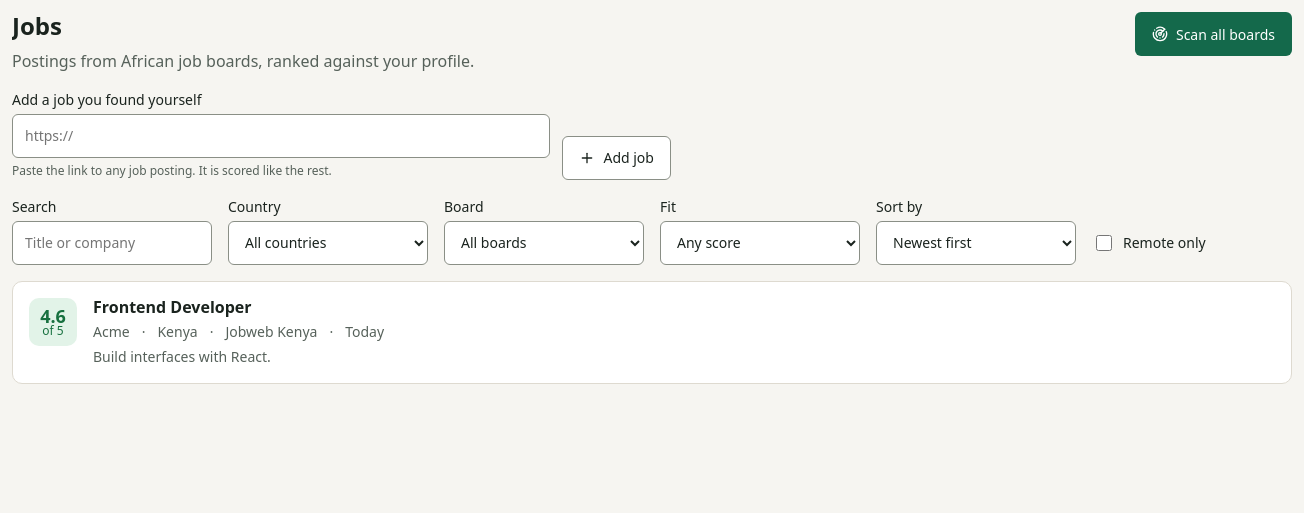
Scenario: JobsPage › offers to clear the filters when they match nothing
Click the checkbox labelled "Remote only": [1104, 243] box [1096,235,1112,251]
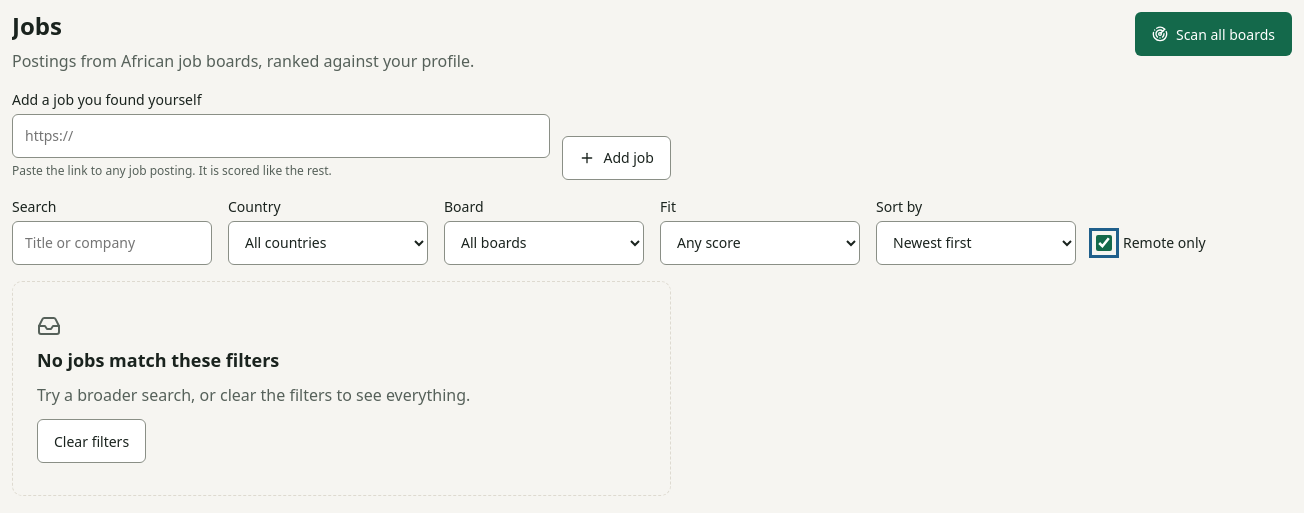
Expected: the heading "No jobs match these filters" is shown, [37,350,279,371]
Click the button "Clear filters": [92, 441] box [37,419,146,463]
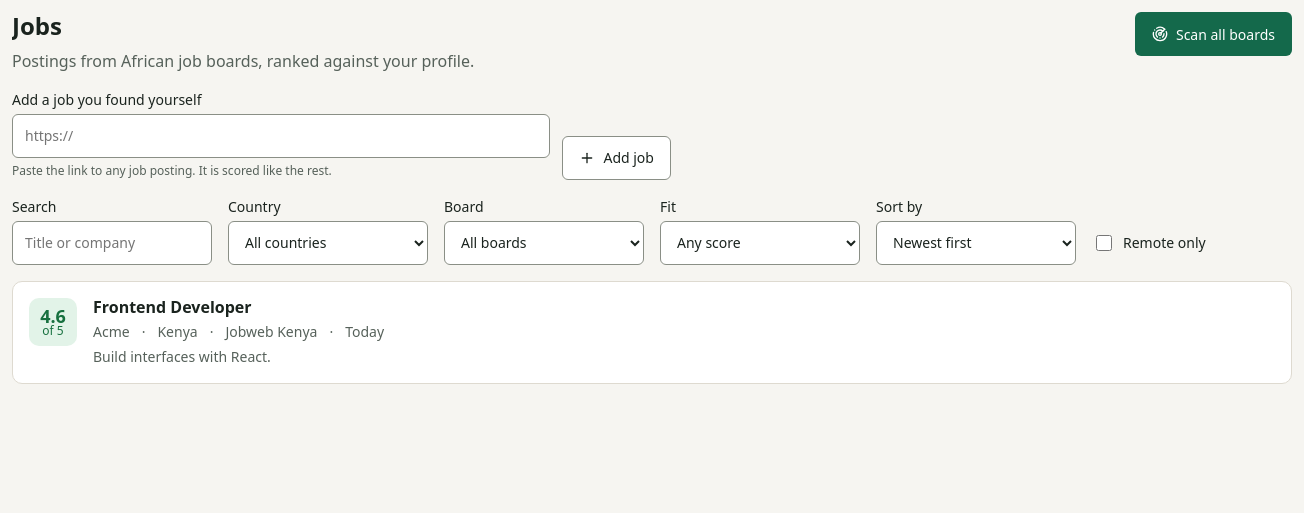
Expected: the link "Frontend Developer" is shown, [93,296,252,318]
